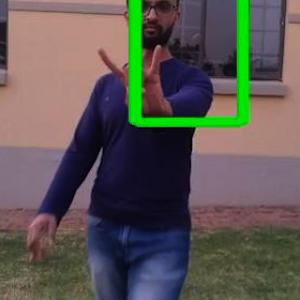takeoff-hand: (86, 38, 174, 131)
